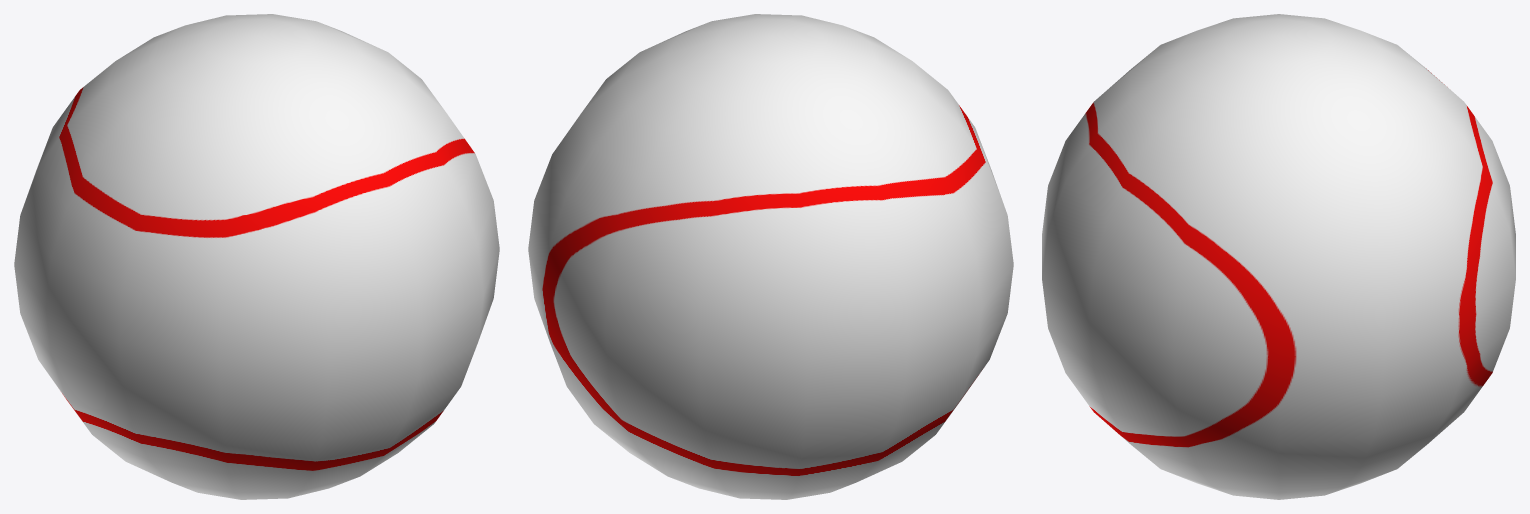
The model's file is ball.fbx.
The picture shows the model from 3 angles, left to right: view 1: azimuth 30°, elevation 25°; view 2: azimuth 150°, elevation 25°; view 3: azimuth 270°, elevation 25°; orthographic projection.
Visible parts, largest first — view 1: pSphere1; view 2: pSphere1; view 3: pSphere1.
Boxes of the visible parts, x1,y1,x2,y2 form: pSphere1: (14, 14, 499, 499); pSphere1: (528, 14, 1013, 499); pSphere1: (1042, 14, 1515, 499).
Bounding box in the file's own units: 2 × 2 × 1.95.
1 material, 1 textured.
